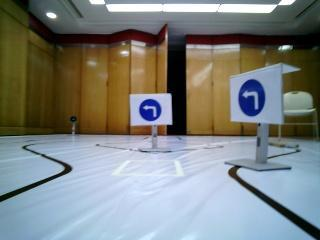left: (234, 69, 282, 122), (131, 92, 171, 122)
